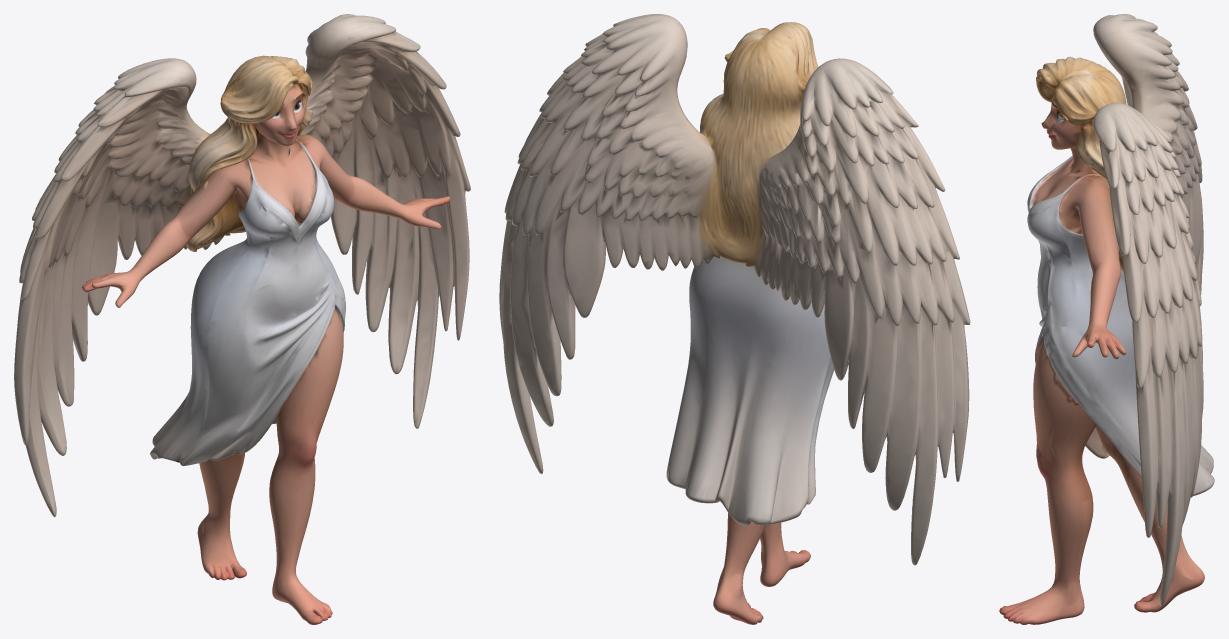
File: angel.opt.glb
3 renders of one model, left to right at view 1: azimuth 30°, elevation 25°; view 2: azimuth 150°, elevation 25°; view 3: azimuth 270°, elevation 25°, orthographic. The views are drawn at different scales.
Bounding box in the file's own units: 0.9753 × 1.12 × 0.3976.
1 material, 1 textured.
